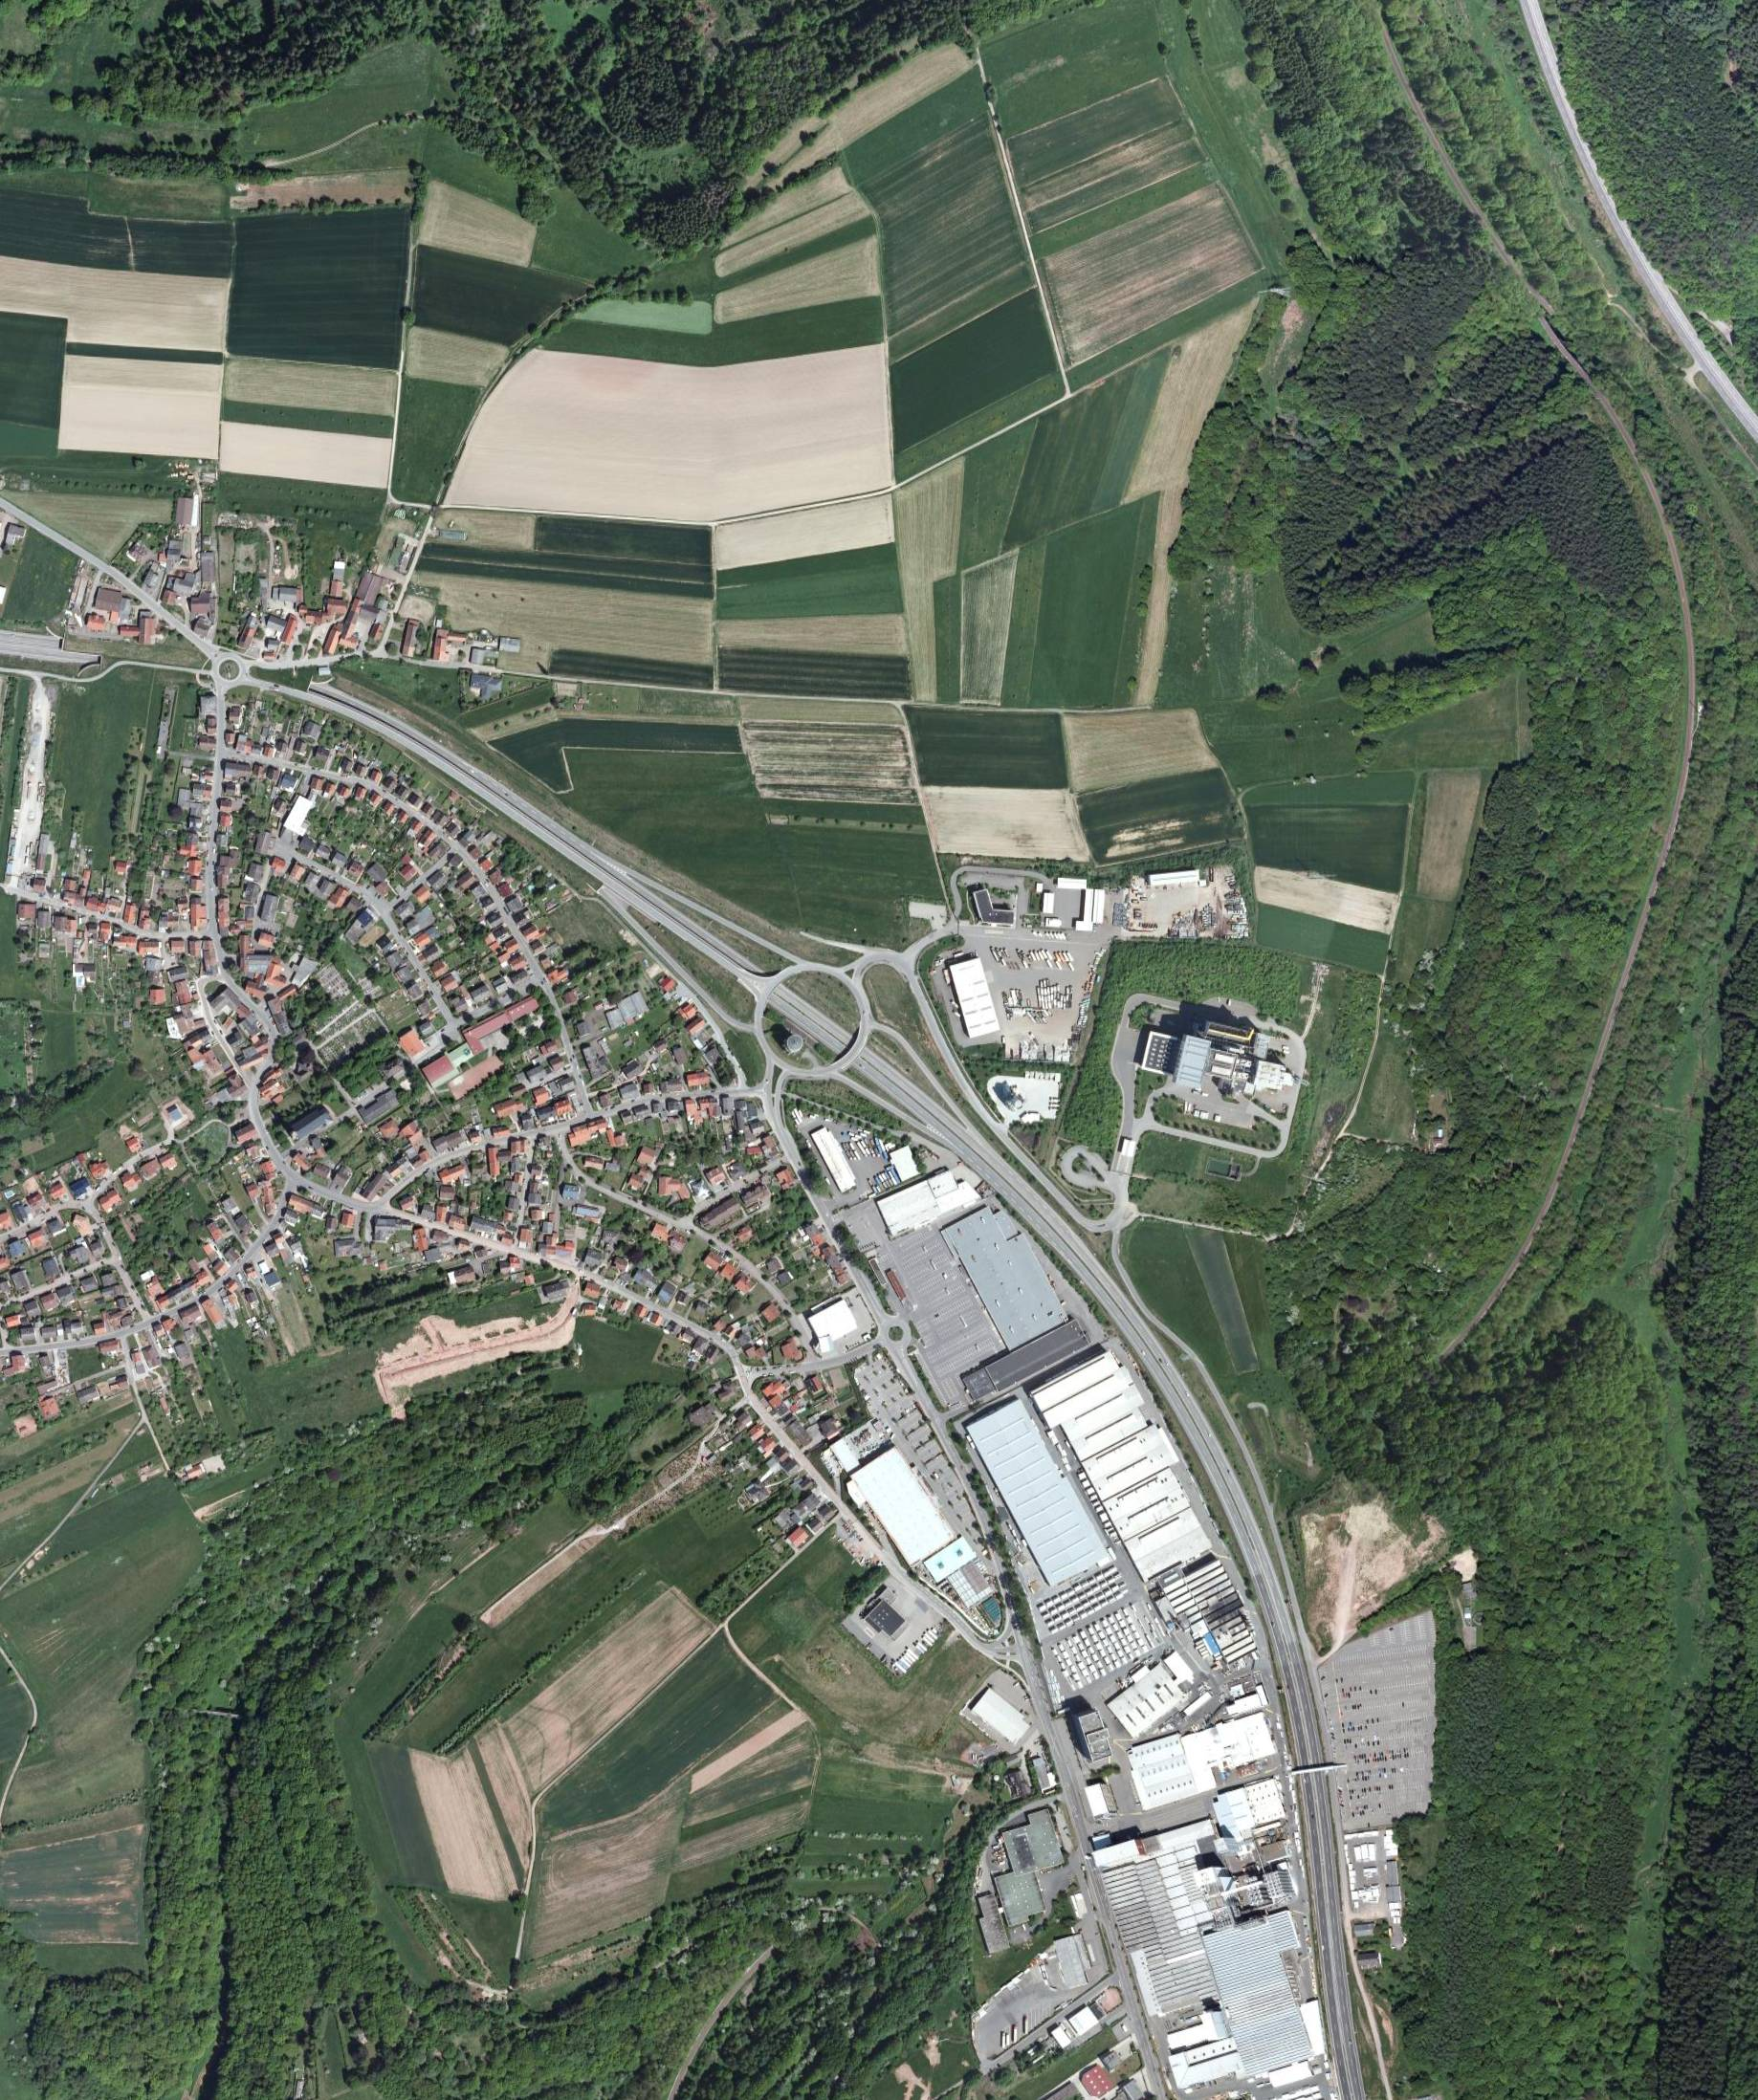roundabout: (213, 647, 248, 689)
